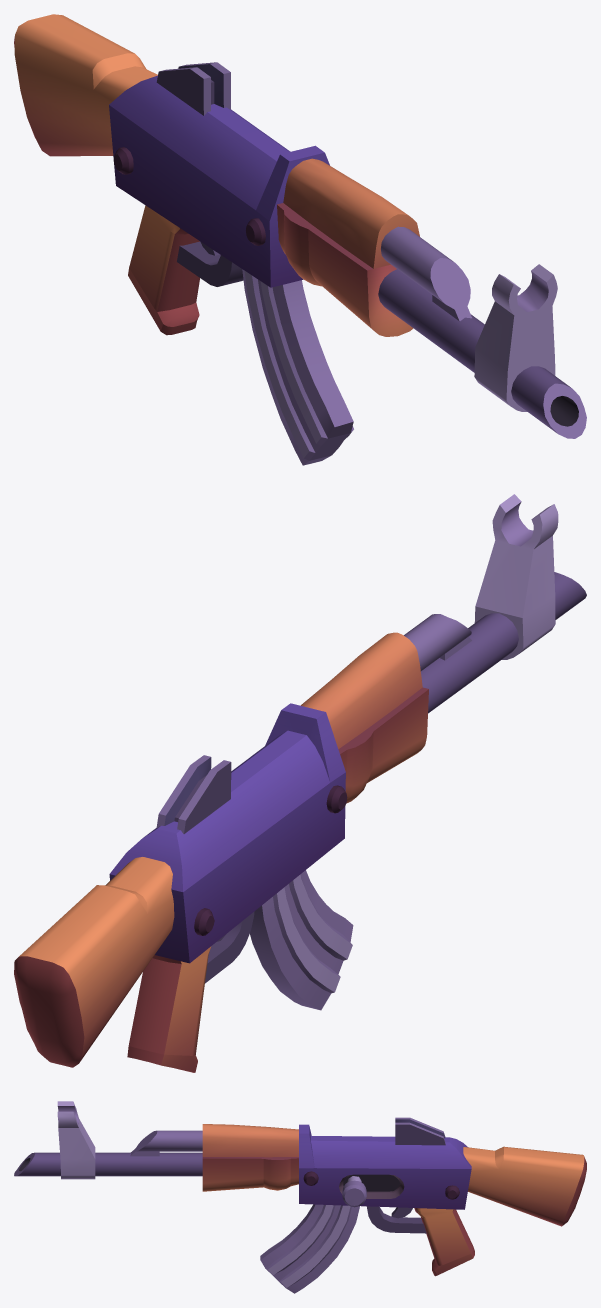
3 renders of one model, top to bottom at view 1: azimuth 30°, elevation 25°; view 2: azimuth 150°, elevation 25°; view 3: azimuth 270°, elevation 25°, orthographic. The views are drawn at different scales.
Visible parts, largest first — view 1: AK-47; view 2: AK-47; view 3: AK-47.
Boxes of the visible parts, bbox=[...] form: AK-47: bbox=[14, 14, 586, 465]; AK-47: bbox=[14, 494, 586, 1072]; AK-47: bbox=[14, 1101, 586, 1293].
Size of the model in its own units: 0.418 by 1.13 by 3.16.
Materials: 1 (1 with a texture image).
